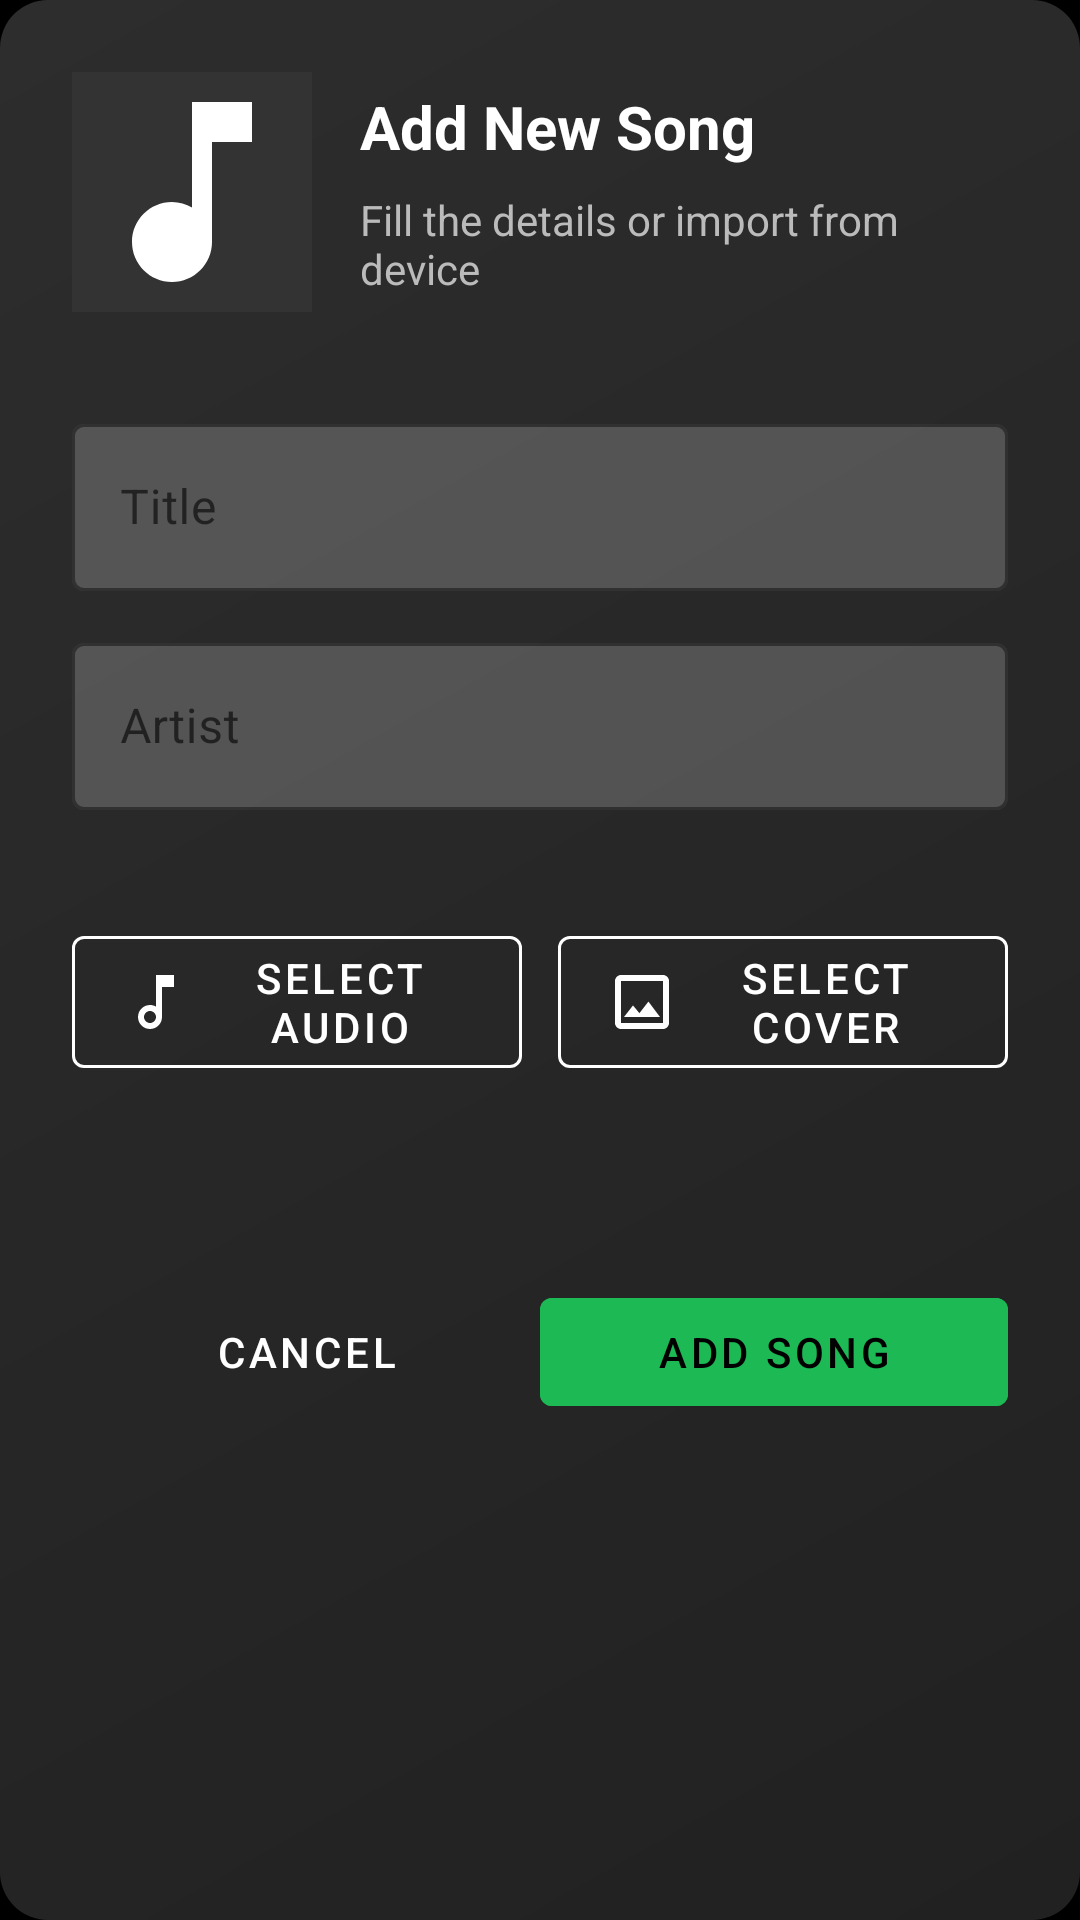

Point at icon controls on the screen. Image size 1080×1920, points as point (x, y).
music note: point (192, 192)
